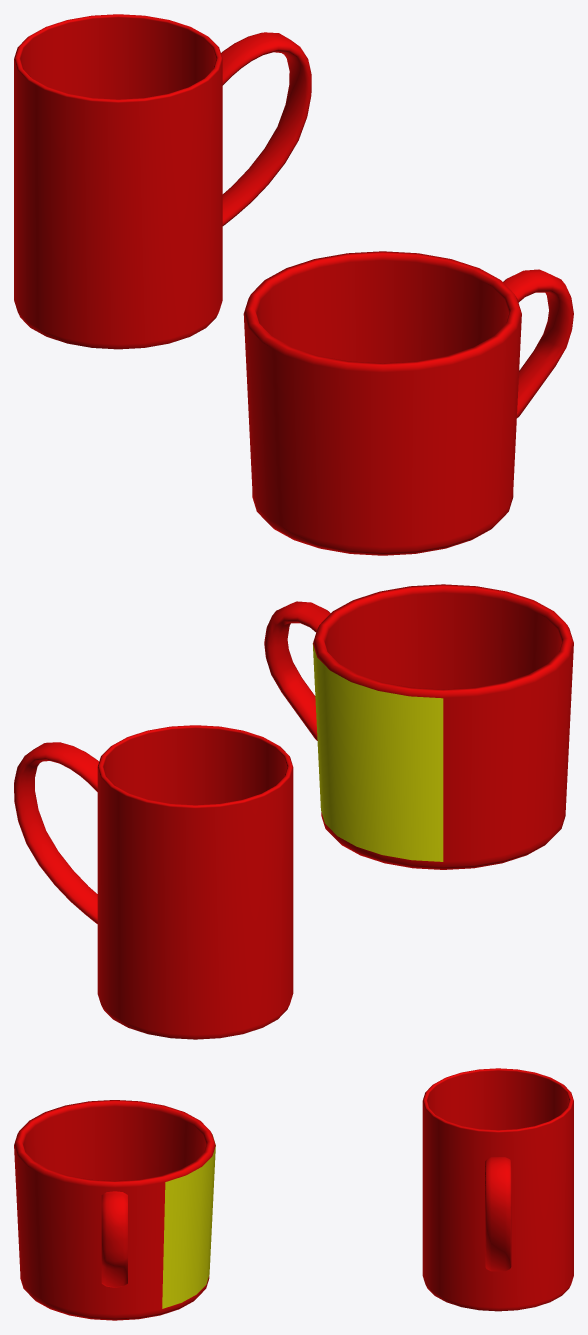
File: RoboTHOR_mugs_grp.fbx
3 views of the same model, one above another, from view 1: azimuth 30°, elevation 25°; view 2: azimuth 150°, elevation 25°; view 3: azimuth 270°, elevation 25° (orthographic). The views are drawn at different scales.
Parts seen in each view (by area): view 1: robothor_mug_ai2_1, robothor_mug_ai2_2; view 2: robothor_mug_ai2_1, robothor_mug_ai2_2; view 3: robothor_mug_ai2_1, robothor_mug_ai2_2.
Part boxes in pixels (box(x1,y1,x2,y2)): robothor_mug_ai2_1: box(243, 251, 573, 555); robothor_mug_ai2_2: box(14, 14, 311, 349); robothor_mug_ai2_1: box(264, 584, 573, 869); robothor_mug_ai2_2: box(14, 725, 293, 1039); robothor_mug_ai2_1: box(14, 1100, 215, 1320); robothor_mug_ai2_2: box(422, 1068, 573, 1311).
Bounding box in the file's own units: 13.48 × 10.5 × 29.21.
